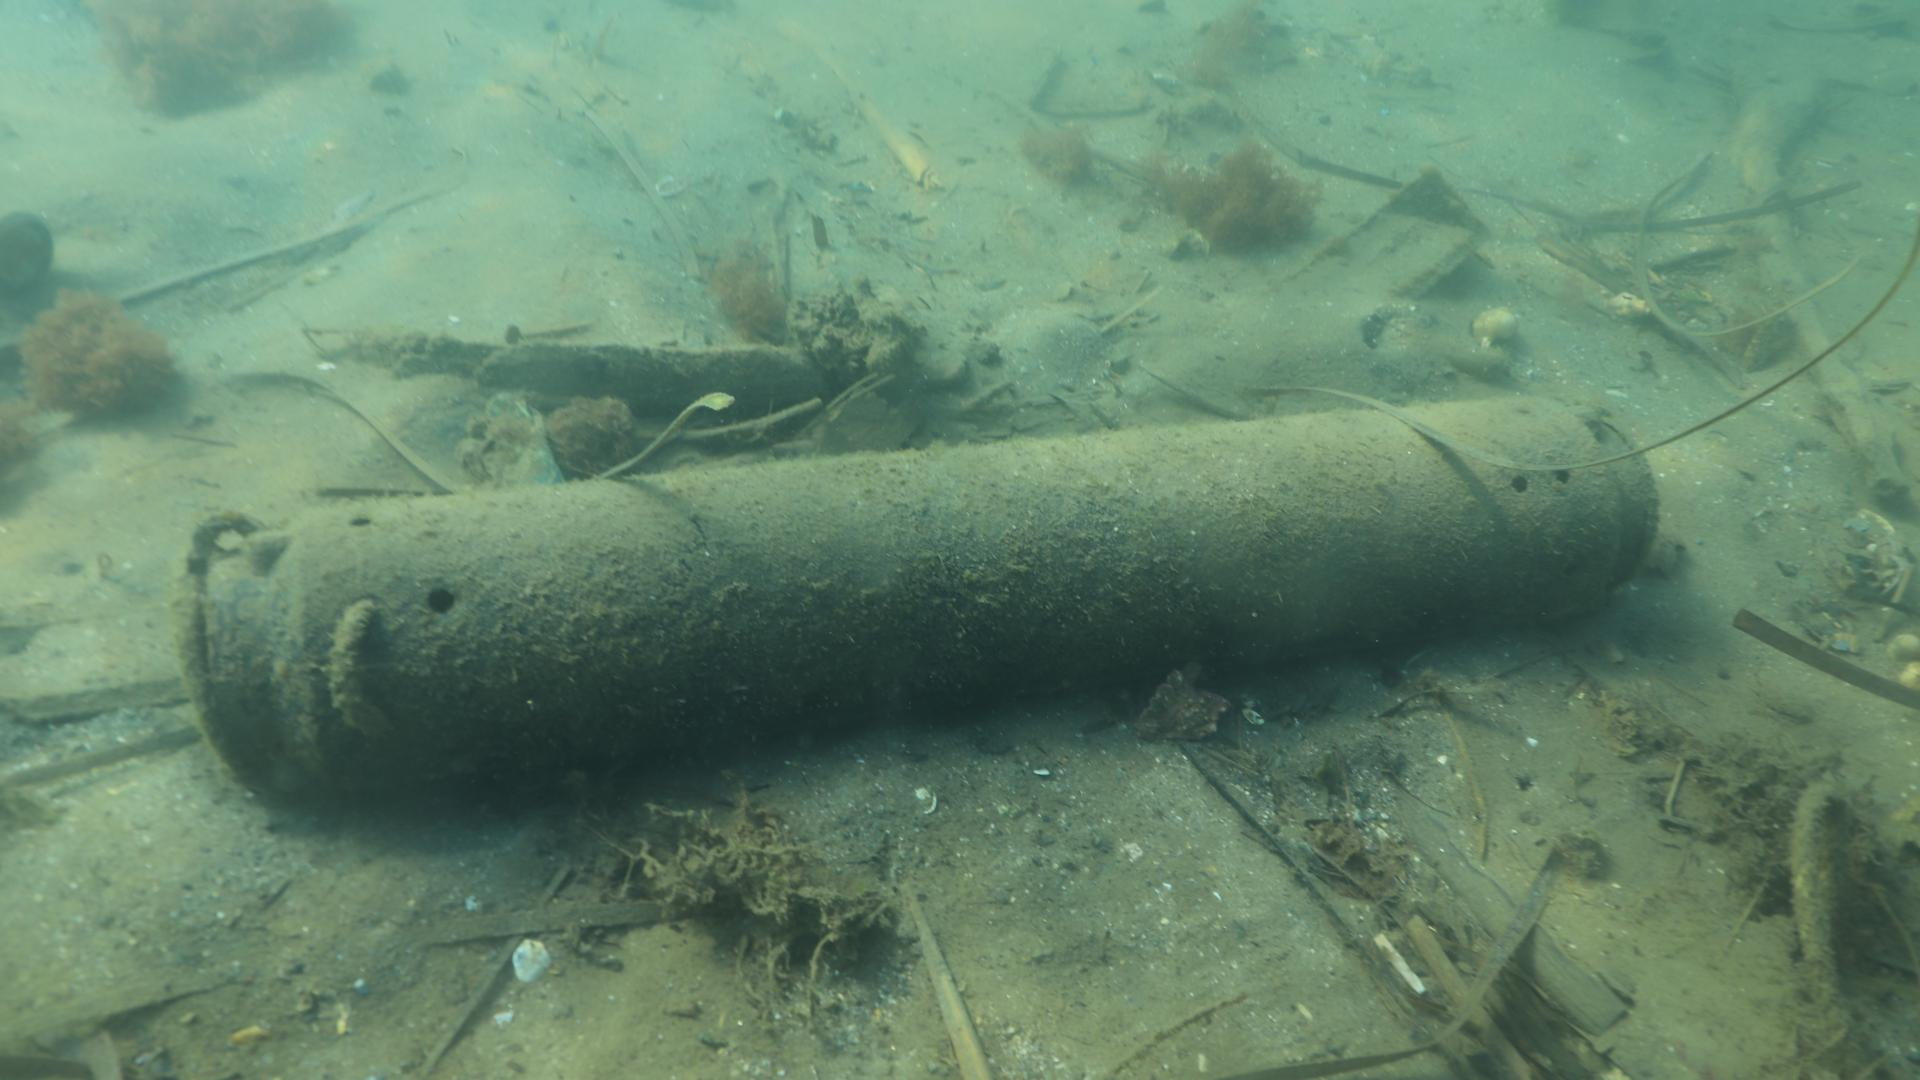eel fish trap: (183, 396, 1658, 802)
